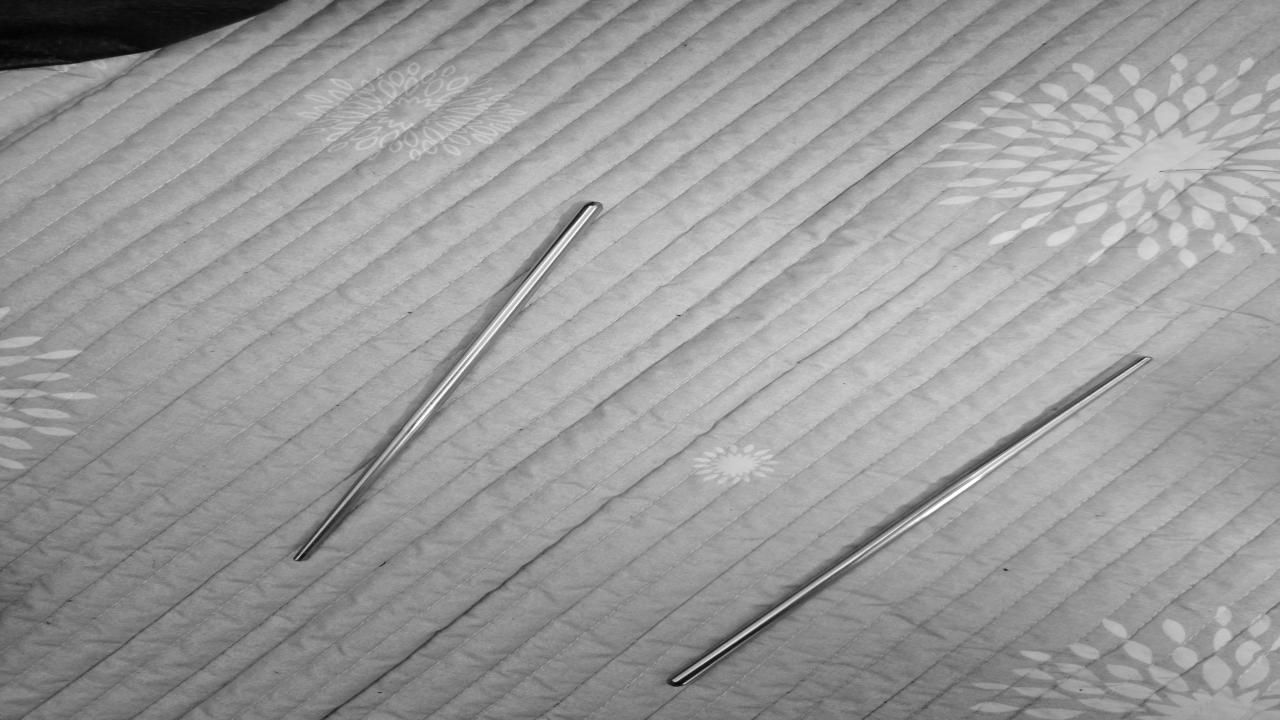chopstick: (670, 356, 1156, 686), (289, 201, 607, 563)
